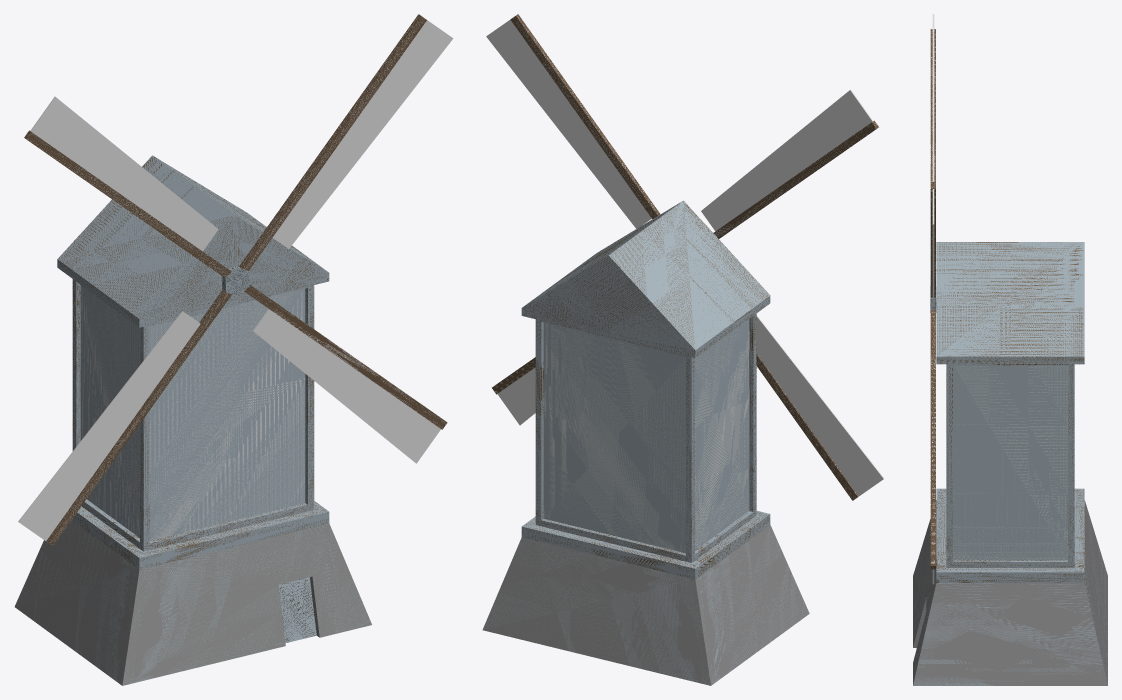
File: Windmill_01.fbx
3 renders of one model, left to right at view 1: azimuth 30°, elevation 25°; view 2: azimuth 150°, elevation 25°; view 3: azimuth 270°, elevation 25°, orthographic. The views are drawn at different scales.
Parts seen in each view (by area): view 1: Model, Group1; view 2: Model, Group1; view 3: Model, Group1.
Part boxes in pixels (bbox=[...]): Model: bbox=[14, 155, 371, 685]; Group1: bbox=[18, 14, 453, 545]; Model: bbox=[482, 200, 809, 685]; Group1: bbox=[486, 14, 884, 500]; Model: bbox=[913, 242, 1107, 685]; Group1: bbox=[930, 14, 935, 584].
Bounding box in the file's own units: 2010 × 2627 × 864.
